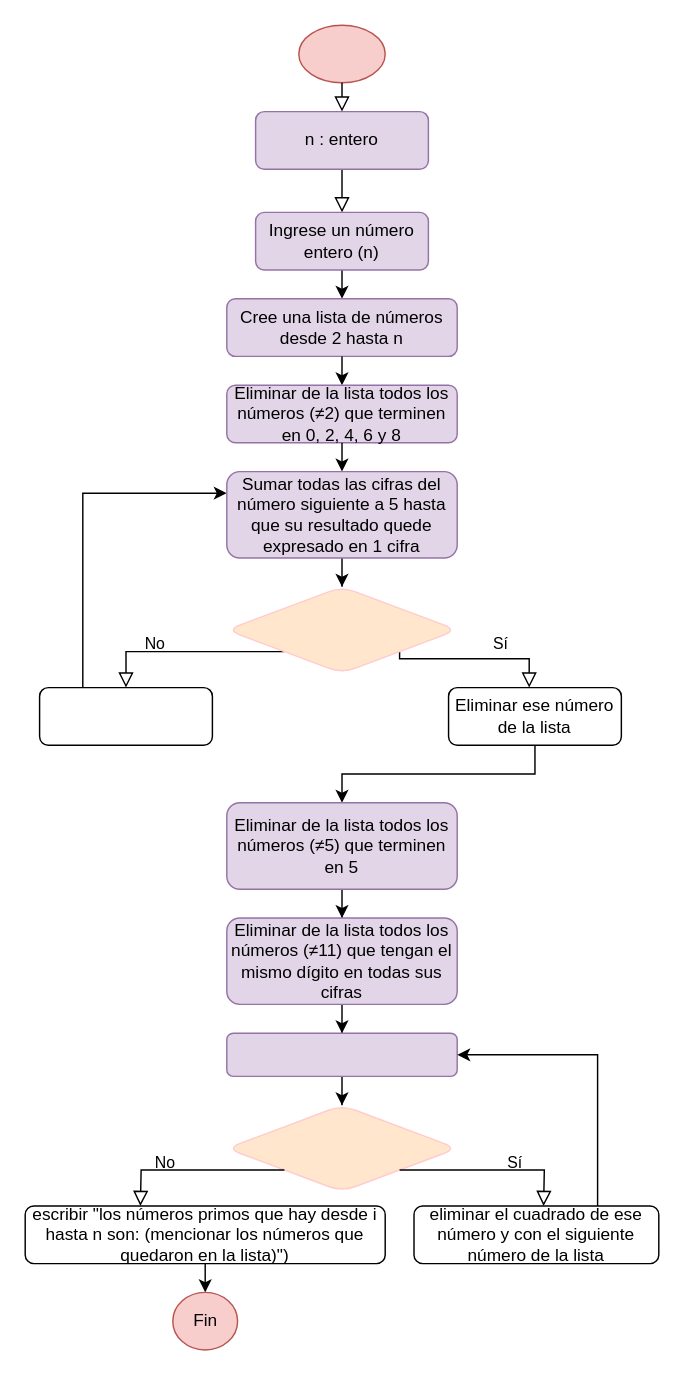
Some shapes in this 684 by 1375 pixel diagram are drawn without their labels. Each missing label, with the centre of its shape:
Con el siguiente número en la lista: [125,715]
Elevar al cuadrado el primer número de la lista: [341,1054]
Inicio: [341,53]
¿El cuadrado de este número se encuentra en la lista?: [341,1148]
¿Ese resultado es igual a 3, 6 o 9?: [341,629]
